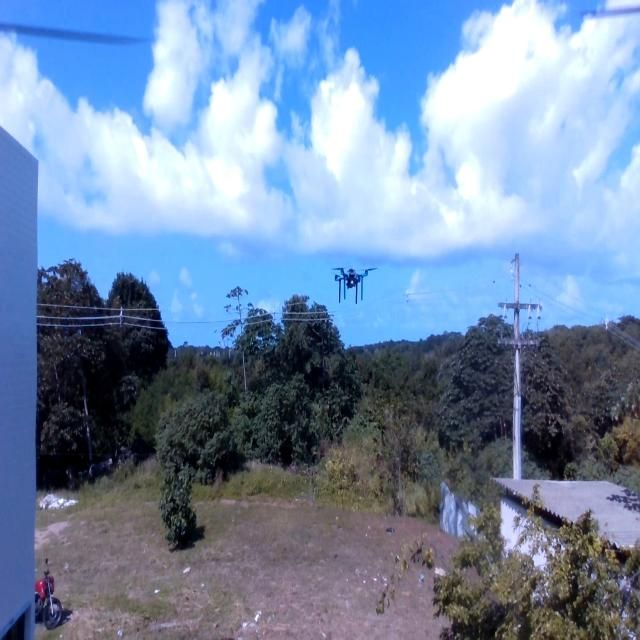-uav-: (320, 245, 382, 322)
